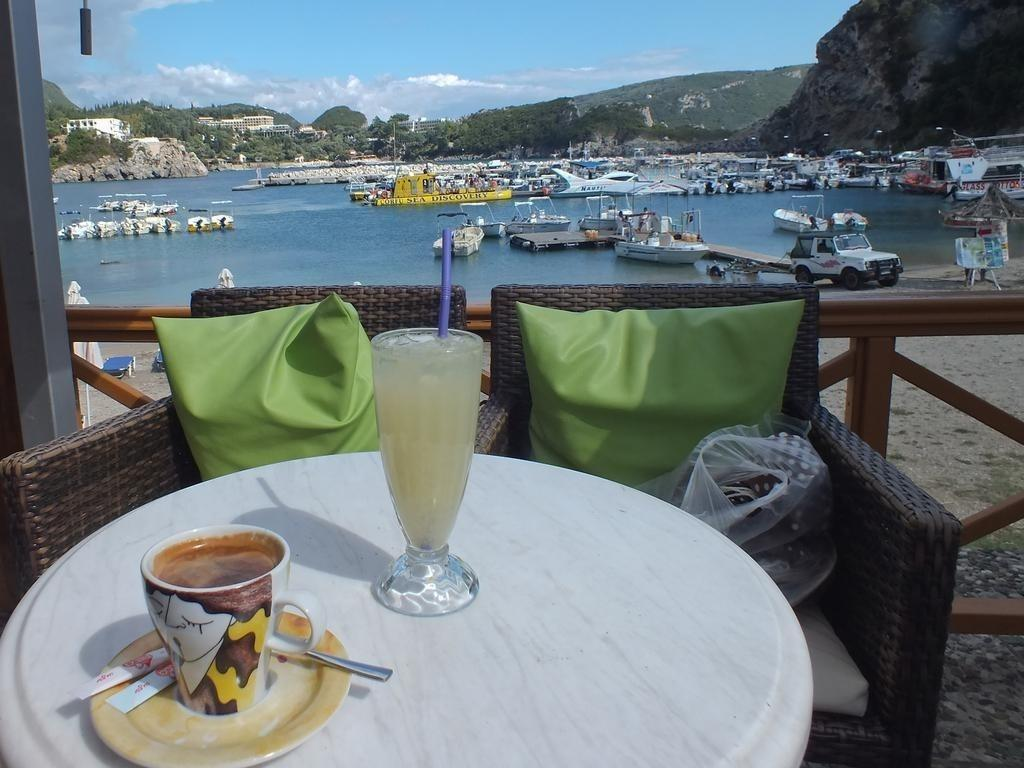cup-handle: (138, 524, 328, 717)
glass-wine: (367, 323, 486, 621)
